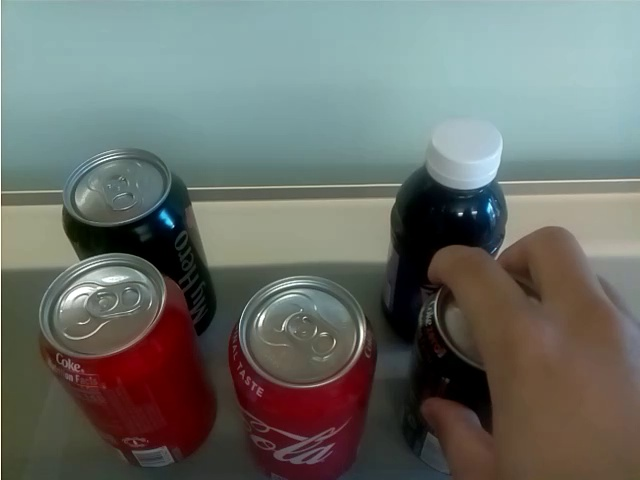cocacola: (30, 253, 218, 475), (230, 272, 378, 477)
cocacola-zero: (57, 144, 208, 256)
hand: (418, 230, 640, 479)
juice: (387, 118, 516, 244)
